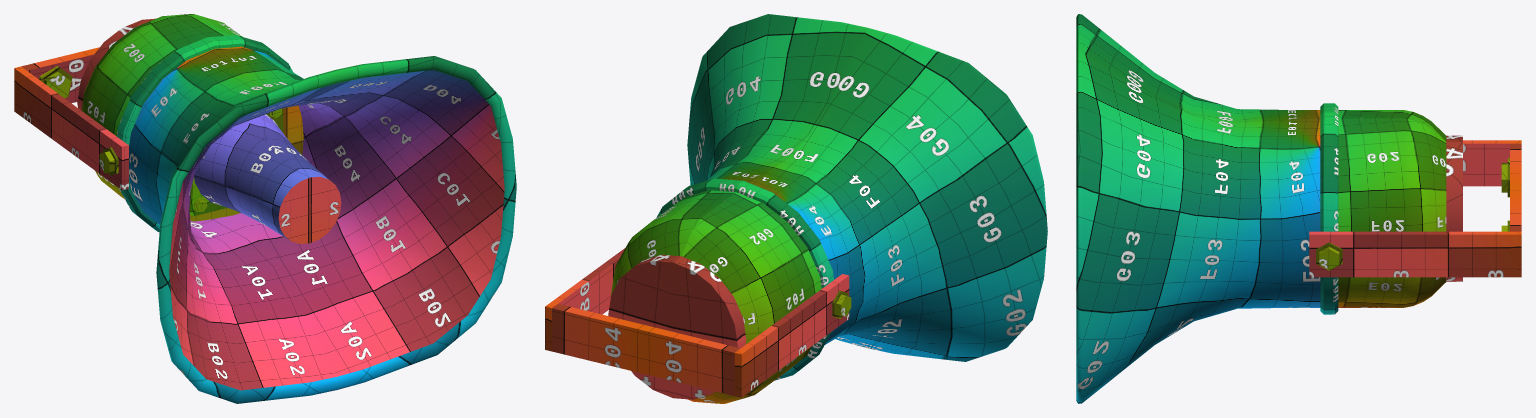
The model's file is Speaker.fbx.
3 views of the same model, side by side, from view 1: azimuth 30°, elevation 25°; view 2: azimuth 150°, elevation 25°; view 3: azimuth 270°, elevation 25° (orthographic).
Visible parts, largest first — view 1: Speaker, SpeakerSupport; view 2: Speaker, SpeakerSupport; view 3: Speaker, SpeakerSupport.
Boxes of the visible parts, <box> form: Speaker: <box>77,14,516,403</box>; SpeakerSupport: <box>14,47,128,190</box>; Speaker: <box>608,14,1047,403</box>; SpeakerSupport: <box>545,248,851,397</box>; Speaker: <box>1076,14,1462,403</box>; SpeakerSupport: <box>1309,140,1521,277</box>.
Bounding box in the file's own units: 250 × 212 × 273.
